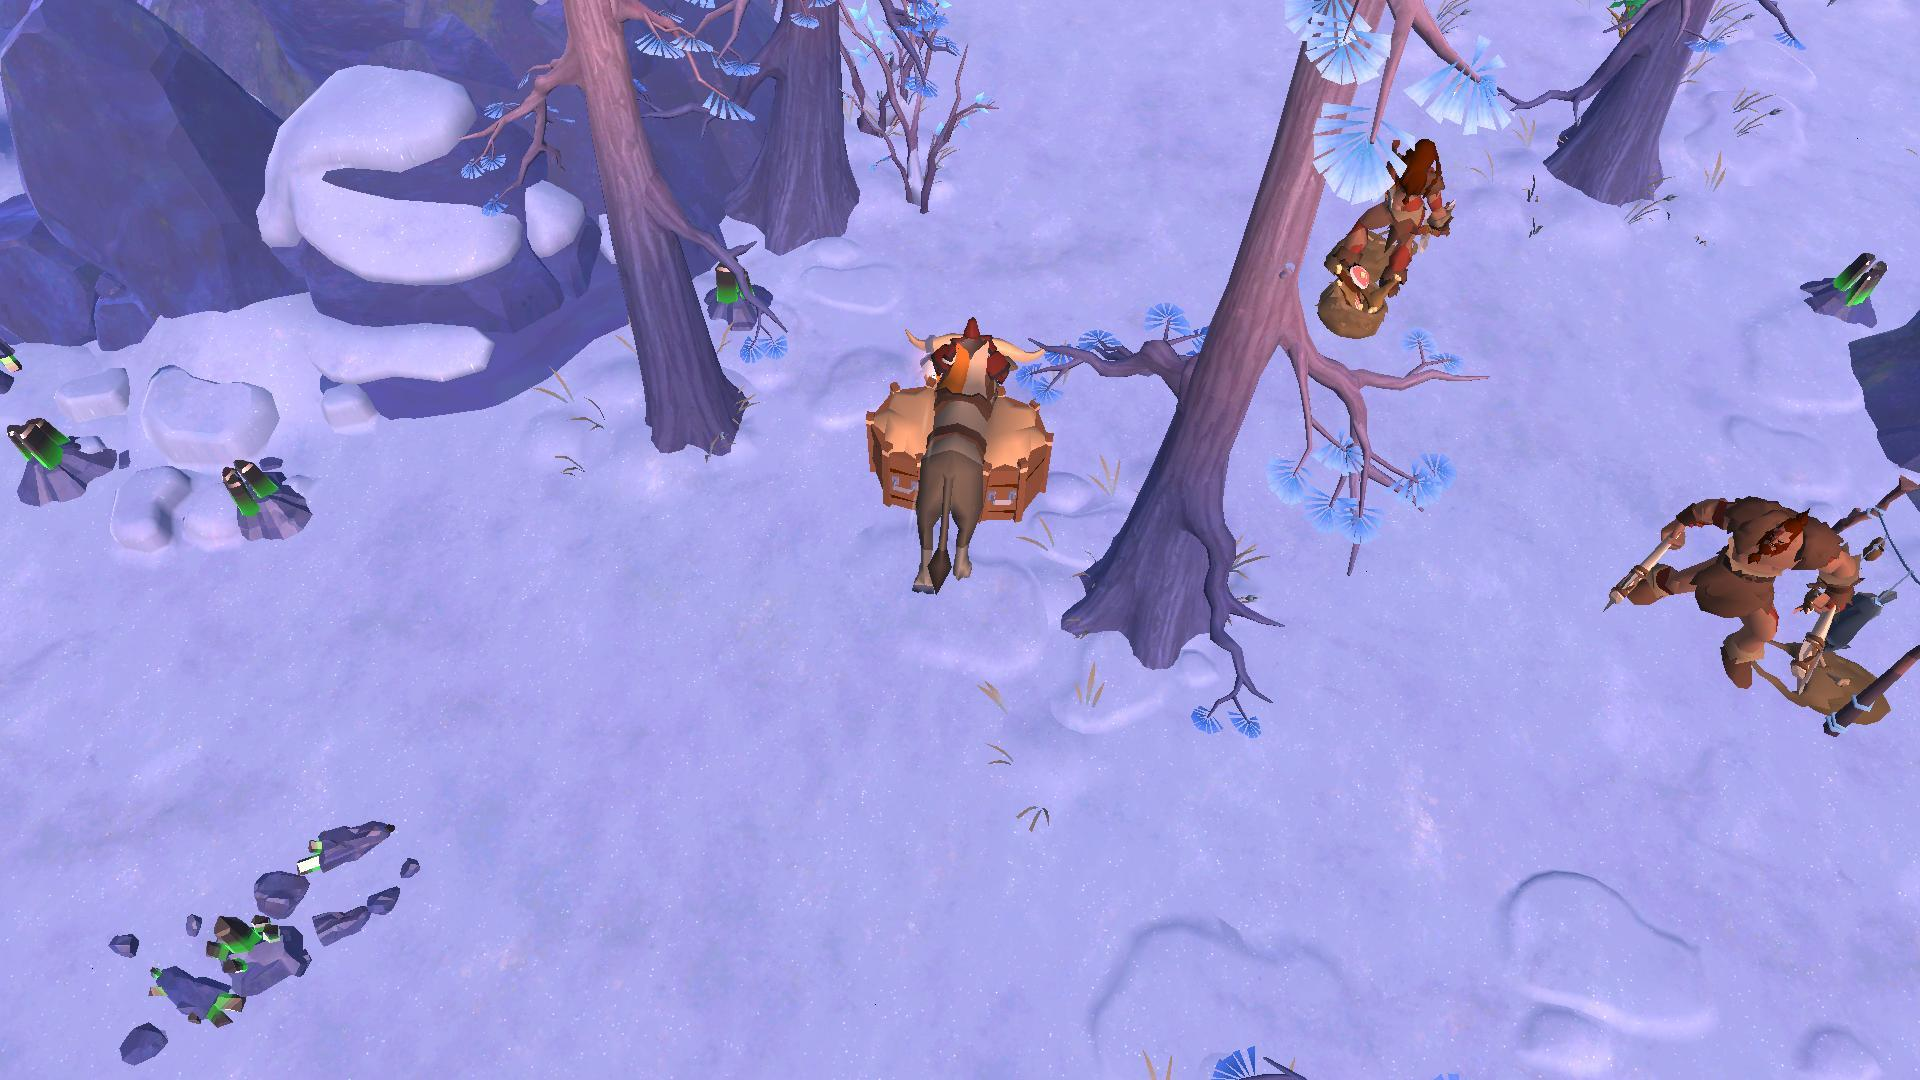enemy_factionKeeper: (1613, 480, 1846, 705), (1324, 141, 1456, 306)
ore_t3: (0, 417, 84, 484), (1825, 240, 1891, 315), (215, 455, 280, 525), (704, 256, 749, 318)
